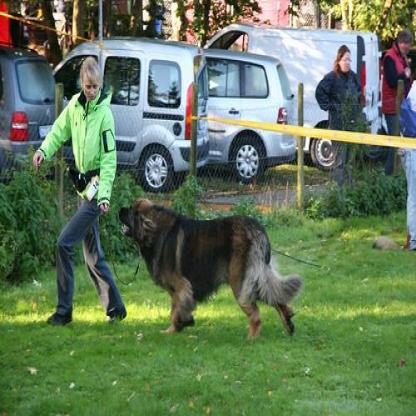Leonberg: (114, 195, 301, 342)
